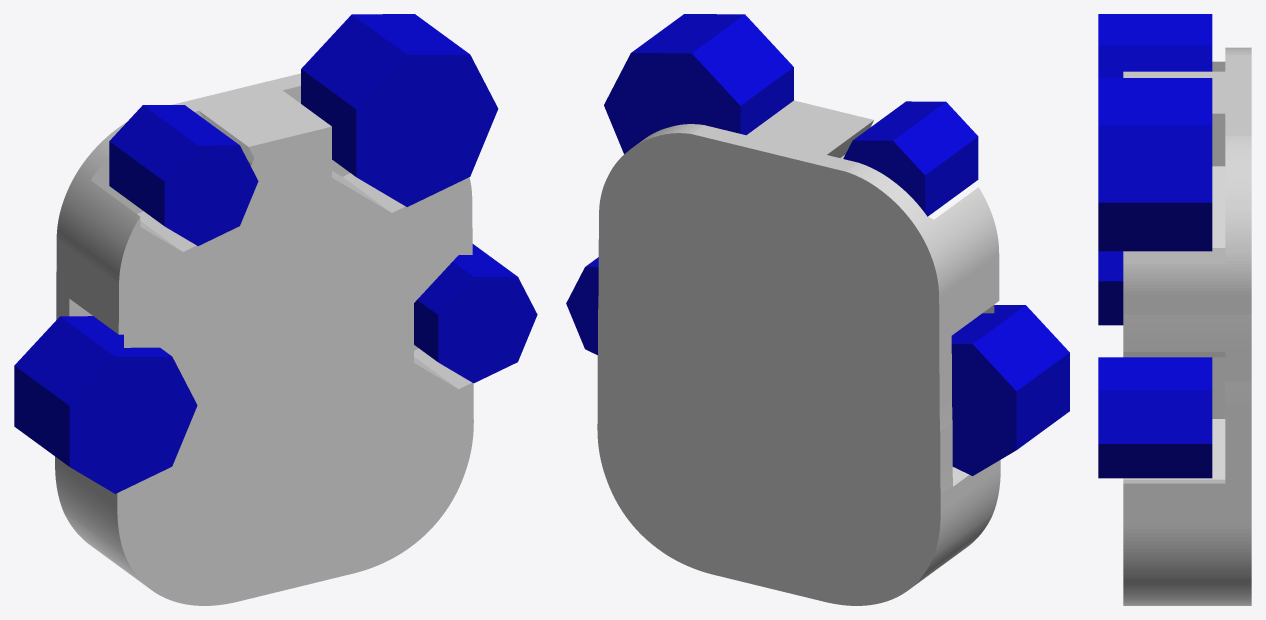
The model's file is Ch_Lite_0_01.fbx.
The picture shows the model from 3 angles, left to right: view 1: azimuth 30°, elevation 25°; view 2: azimuth 150°, elevation 25°; view 3: azimuth 270°, elevation 25°; orthographic projection. The views are drawn at different scales.
Visible parts, largest first — view 1: sphere1; view 2: sphere1; view 3: sphere1.
Part boxes in pixels (x1,y1,x2,y2): sphere1: (14,14,537,605); sphere1: (566,14,1069,605); sphere1: (1098,14,1251,605).
Size of the model in its own units: 0.8663 by 0.9155 by 0.2387.
